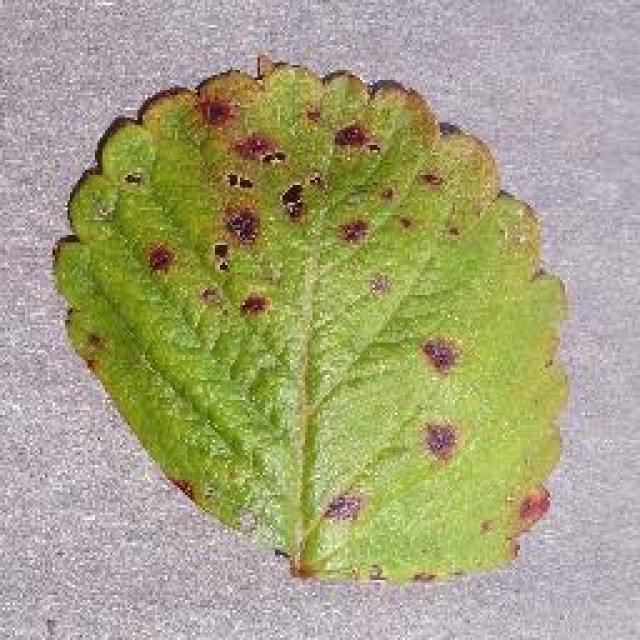Strawberry___Leaf_scorch: (125, 81, 558, 573)
